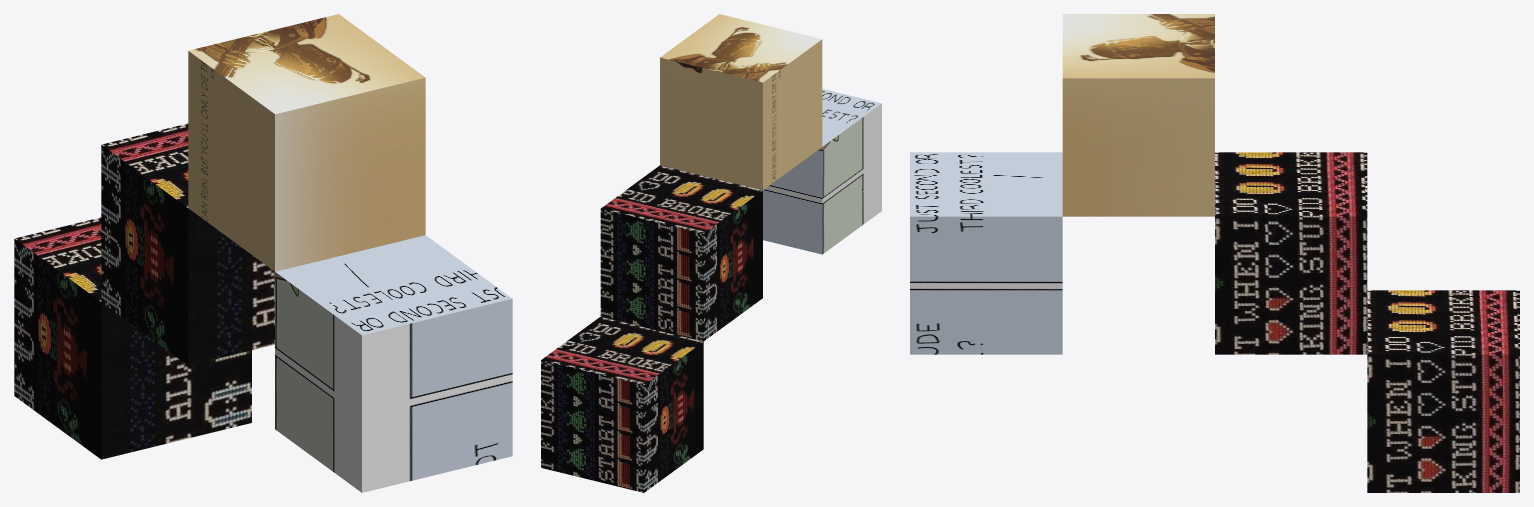
Rendered from boxes.glb.
3 renders of one model, left to right at view 1: azimuth 30°, elevation 25°; view 2: azimuth 150°, elevation 25°; view 3: azimuth 270°, elevation 25°, orthographic. The views are drawn at different scales.
Visible parts, largest first — view 1: Cube.02, Cube.01, Cube.04, Cube.03; view 2: Cube.04, Cube.03, Cube.01, Cube.02; view 3: Cube.02, Cube.04, Cube.03, Cube.01.
Part boxes in pixels (left/top/right/bottom): Cube.02: left=275, top=235, right=512, bottom=492; Cube.01: left=188, top=14, right=425, bottom=271; Cube.04: left=14, top=217, right=251, bottom=459; Cube.03: left=101, top=123, right=274, bottom=365; Cube.04: left=541, top=316, right=703, bottom=492; Cube.03: left=600, top=165, right=762, bottom=341; Cube.01: left=660, top=14, right=822, bottom=190; Cube.02: left=763, top=89, right=881, bottom=254; Cube.02: left=910, top=152, right=1062, bottom=354; Cube.04: left=1367, top=290, right=1519, bottom=492; Cube.03: left=1215, top=152, right=1367, bottom=354; Cube.01: left=1062, top=14, right=1214, bottom=216.
Bounding box in the file's own units: 2 × 6 × 8.
Materials: 3 (3 with a texture image).
